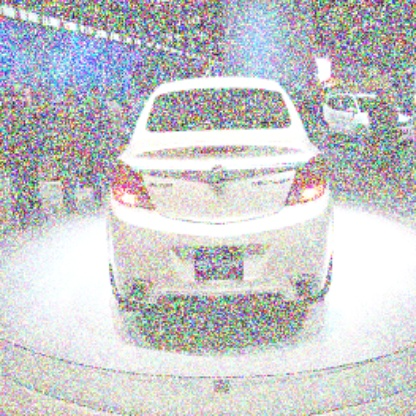Vehicle: (105, 77, 334, 342)
